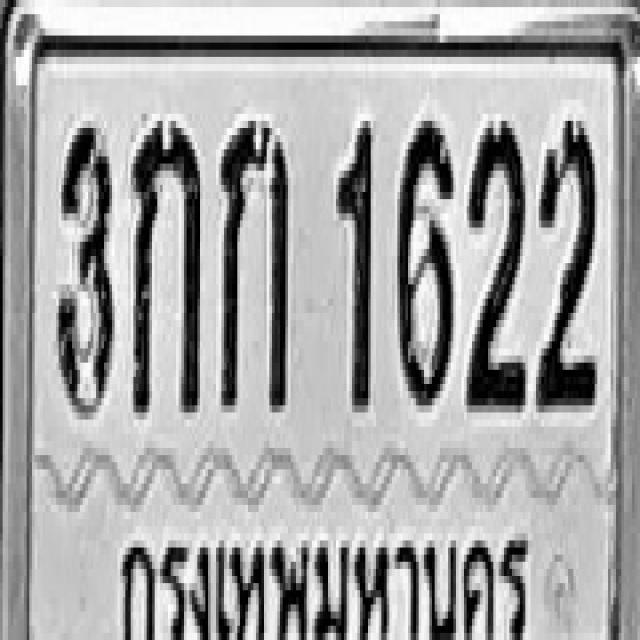1: (335, 117, 372, 409)
10GorGai: (131, 117, 200, 416), (219, 117, 288, 409)
2: (464, 117, 525, 409), (535, 117, 596, 409)
3: (56, 121, 112, 412)
6: (395, 114, 453, 405)
